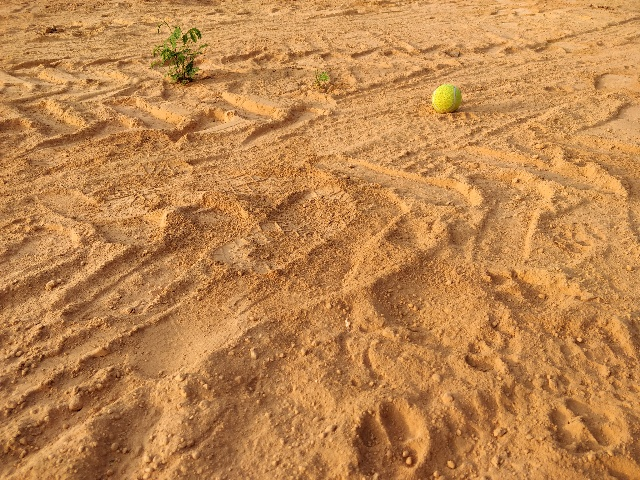ball: (427, 82, 466, 114)
